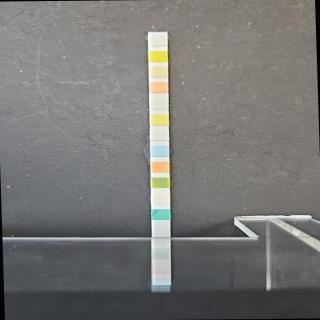mark: (150, 65, 167, 78), (151, 113, 167, 126), (152, 192, 169, 204), (151, 145, 168, 157), (150, 82, 167, 94), (149, 51, 167, 62), (152, 128, 168, 140), (151, 96, 167, 108), (152, 209, 169, 220), (152, 177, 169, 188), (149, 35, 166, 46), (152, 162, 168, 172)
